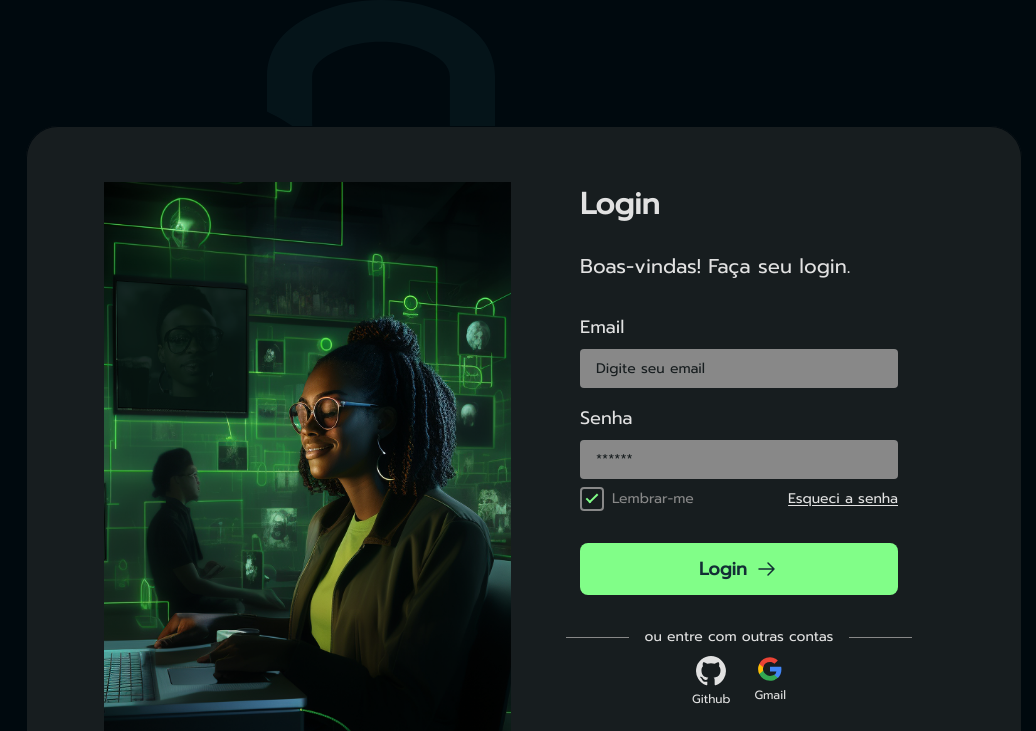
gives feedback when selecting Entrar com GitHub
Click the button with aria-label "Entrar com GitHub" at [711, 681], box [692,655,730,707]
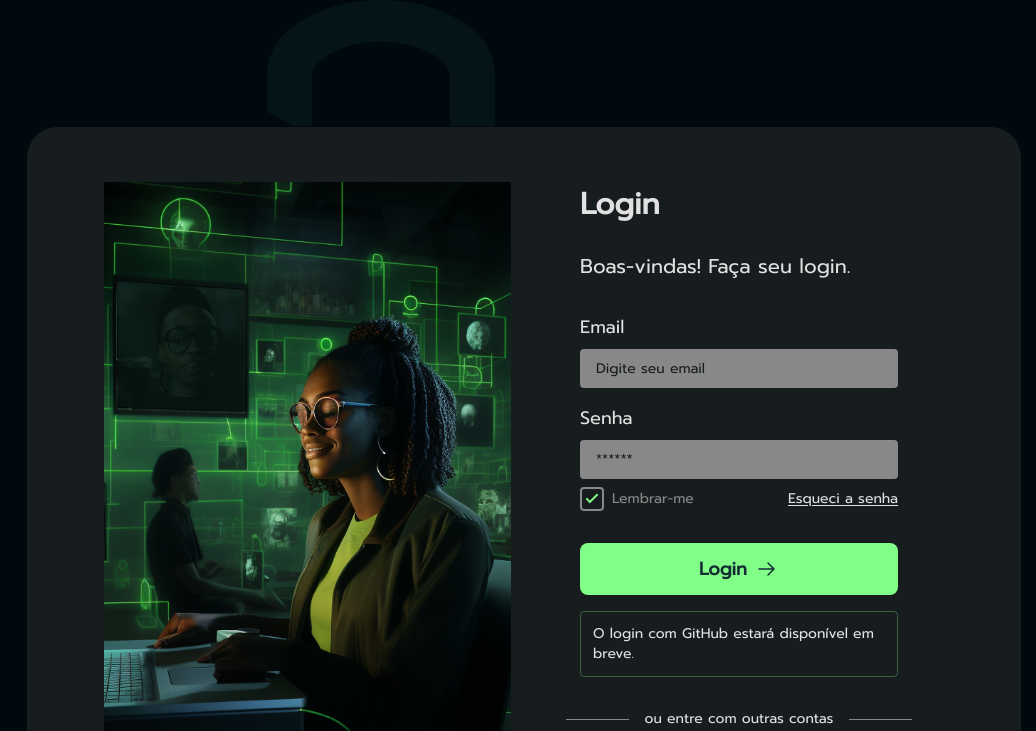
Check: the message shows "O login com GitHub", box [593,623,874,664]
